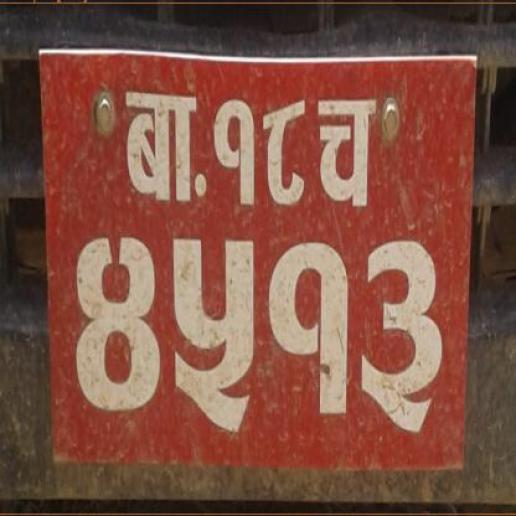1: (267, 232, 354, 425), (211, 90, 258, 220)
3: (357, 231, 447, 443)
4: (72, 221, 164, 417)
5: (168, 221, 260, 438)
8: (260, 89, 309, 215)
ba: (121, 76, 201, 212)
cha: (314, 83, 378, 217)
